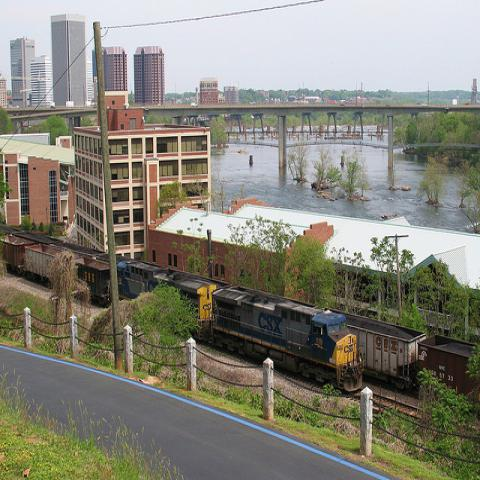car: (464, 103, 469, 106)
